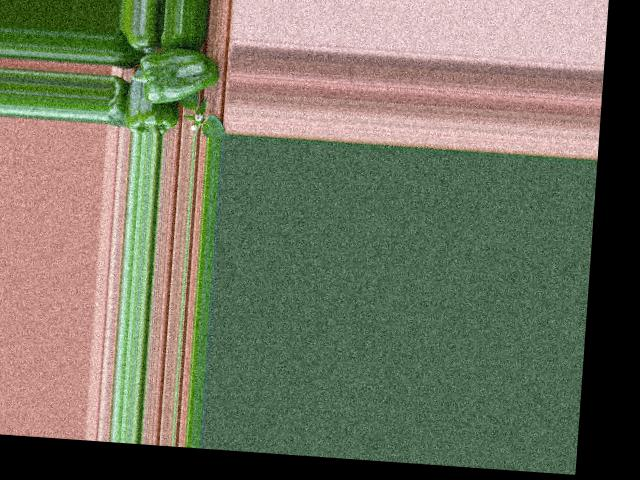bell_pepper: (116, 27, 155, 56)
